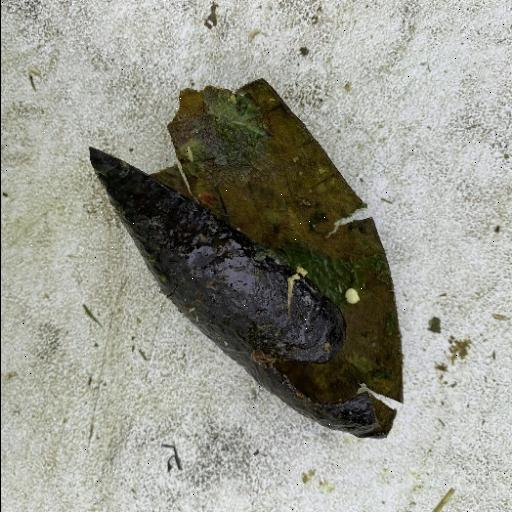Waste: (87, 76, 405, 440)
